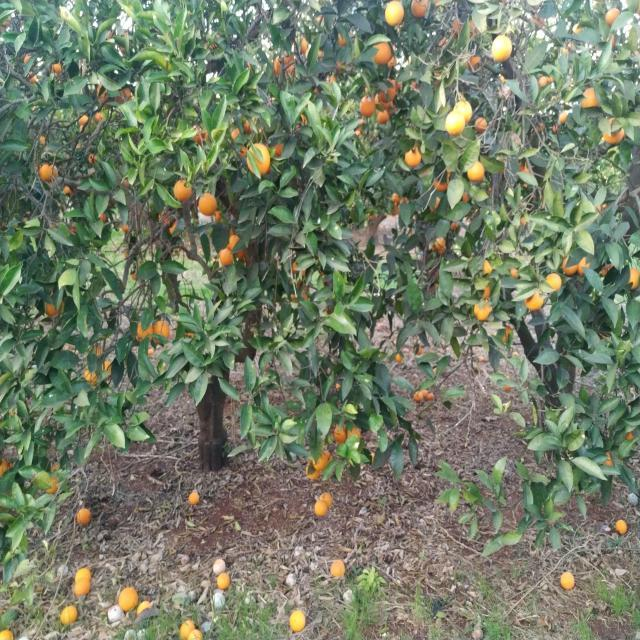Jeruk Sudah Matang: (247, 140, 270, 177), (272, 51, 298, 83), (601, 118, 628, 148), (490, 33, 514, 62), (116, 77, 140, 106), (383, 0, 406, 29), (372, 38, 393, 68), (302, 452, 320, 486), (385, 188, 406, 216), (476, 300, 498, 326), (174, 176, 193, 205), (468, 157, 487, 186), (580, 87, 601, 113), (188, 123, 210, 147), (290, 111, 312, 135), (452, 99, 474, 122), (404, 142, 422, 170), (45, 294, 66, 318), (135, 318, 154, 344), (430, 233, 450, 257), (95, 82, 115, 106), (84, 366, 100, 396), (447, 111, 465, 137), (576, 248, 592, 277), (101, 357, 119, 382), (320, 447, 338, 472), (154, 316, 170, 344), (200, 192, 217, 218), (41, 474, 63, 494), (603, 5, 622, 28), (526, 288, 544, 312), (359, 94, 377, 118), (313, 450, 328, 478), (432, 168, 449, 192), (600, 257, 616, 282), (560, 255, 578, 276), (628, 265, 640, 296), (37, 160, 52, 183), (602, 33, 620, 52), (545, 272, 562, 292), (240, 115, 260, 132), (375, 108, 392, 126), (88, 340, 105, 358), (472, 118, 490, 134), (292, 36, 310, 52), (76, 114, 92, 131), (219, 248, 234, 266), (230, 126, 245, 144), (273, 142, 288, 160), (118, 221, 134, 237), (129, 266, 143, 284), (228, 235, 243, 251), (94, 110, 108, 127), (23, 50, 36, 68), (49, 62, 64, 76), (481, 260, 494, 274), (558, 109, 568, 126), (68, 222, 80, 236), (235, 148, 249, 160), (29, 69, 39, 85), (98, 211, 109, 225), (413, 346, 425, 358), (537, 75, 548, 88), (461, 192, 472, 204), (510, 267, 520, 280), (551, 122, 560, 135), (518, 220, 528, 230), (395, 353, 403, 364), (548, 76, 556, 85)
